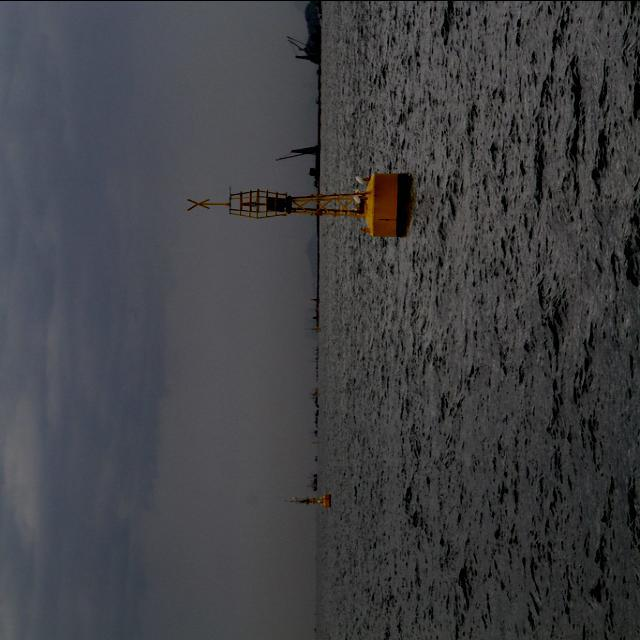ship: (271, 136, 329, 186), (280, 24, 325, 67)
